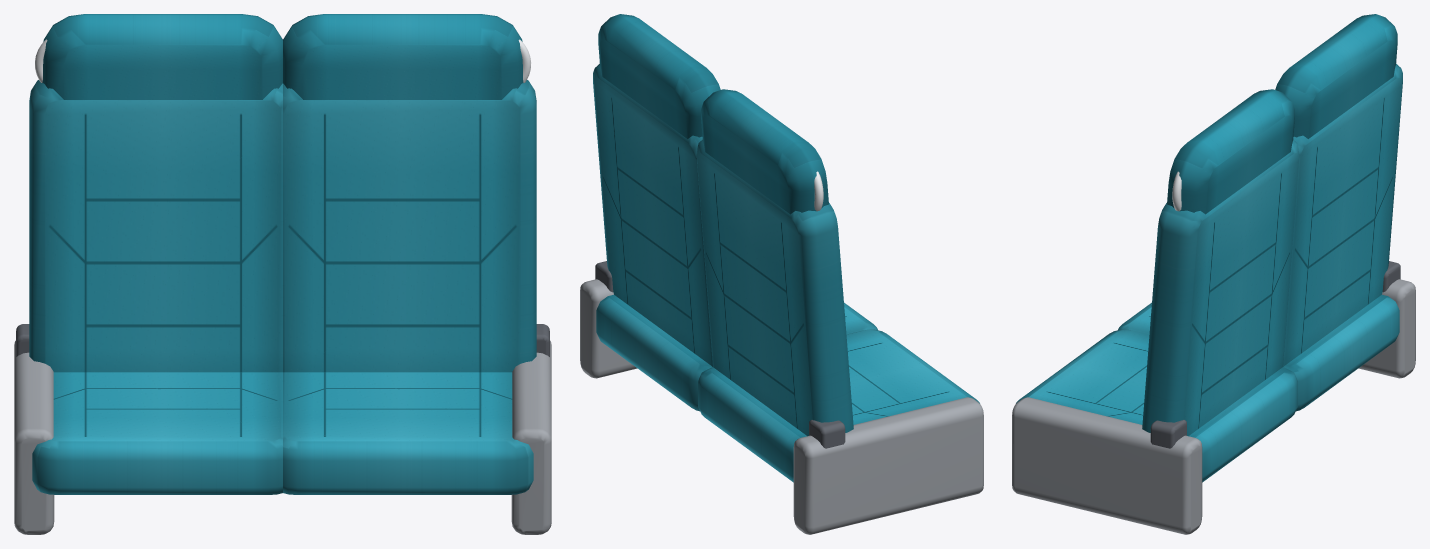
The model's file is seat_ekonomiTosca.glb.
The picture shows the model from 3 angles, left to right: view 1: azimuth 30°, elevation 25°; view 2: azimuth 150°, elevation 25°; view 3: azimuth 270°, elevation 25°; orthographic projection. The views are drawn at different scales.
Visible parts, largest first — view 1: seat_ekonomiTosca; view 2: seat_ekonomiTosca; view 3: seat_ekonomiTosca.
Part boxes in pixels (x1,y1,x2,y2): seat_ekonomiTosca: [14, 14, 551, 534]; seat_ekonomiTosca: [580, 14, 983, 534]; seat_ekonomiTosca: [1012, 14, 1415, 534].
Size of the model in its own units: 1.19 by 0.9758 by 0.9628.
5 materials, 2 textured.
